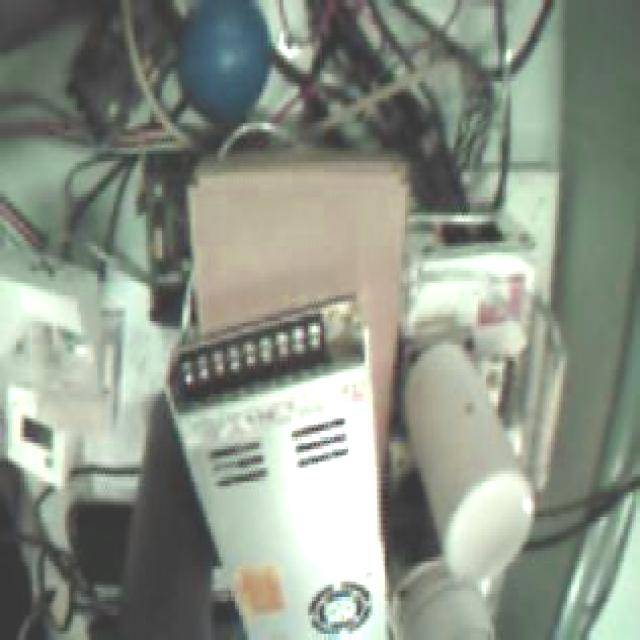BallPurple: (175, 0, 272, 124)
